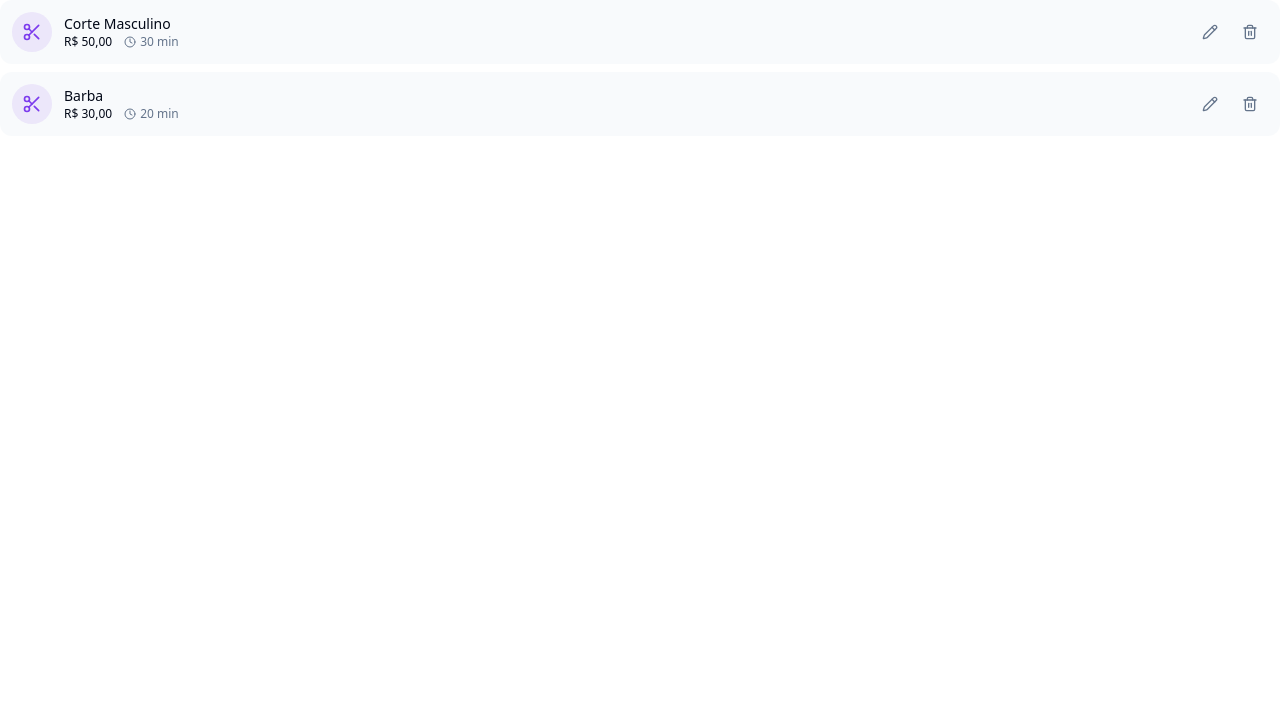
Test: ServiceList › with services › should close delete confirmation without confirming
Step 1. Click the button named "delete" in the row of "Corte Masculino" → (1250, 32), box [1232,14,1268,50]
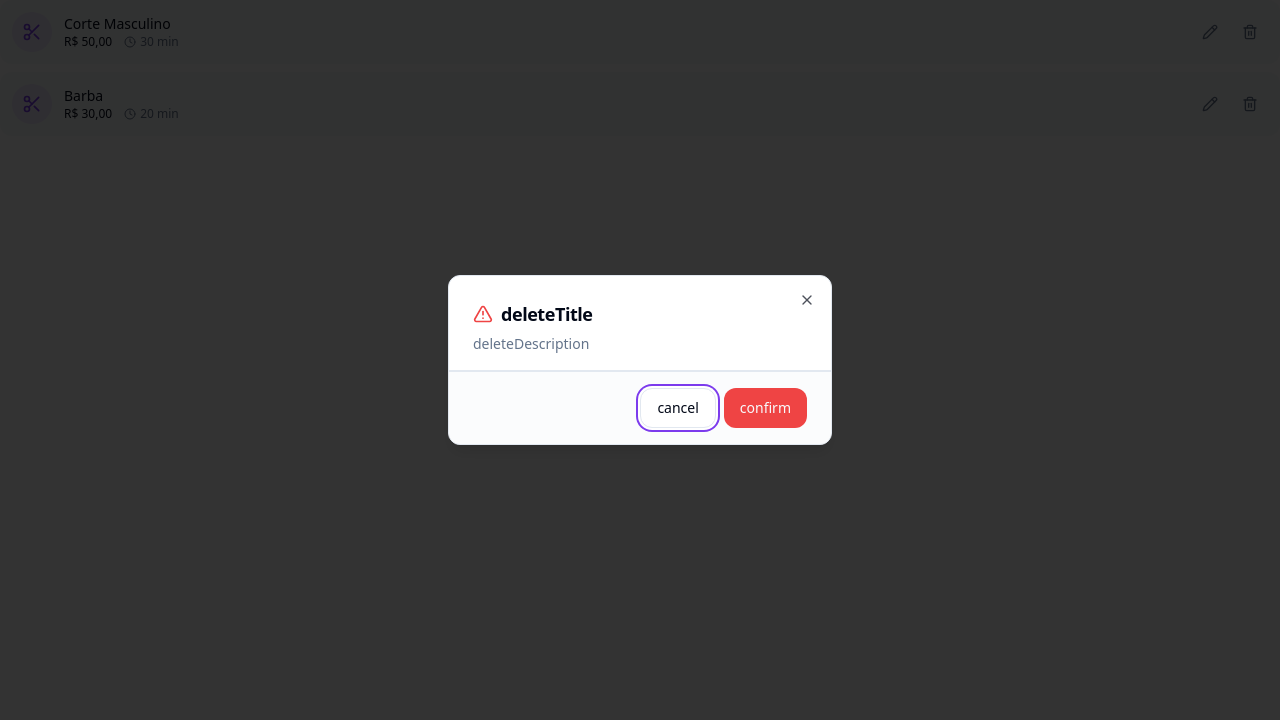
Check: the heading "deleteTitle" is shown, box [473,302,592,326]
Step 2. Click the button "cancel" → (678, 408), box [640,388,716,428]
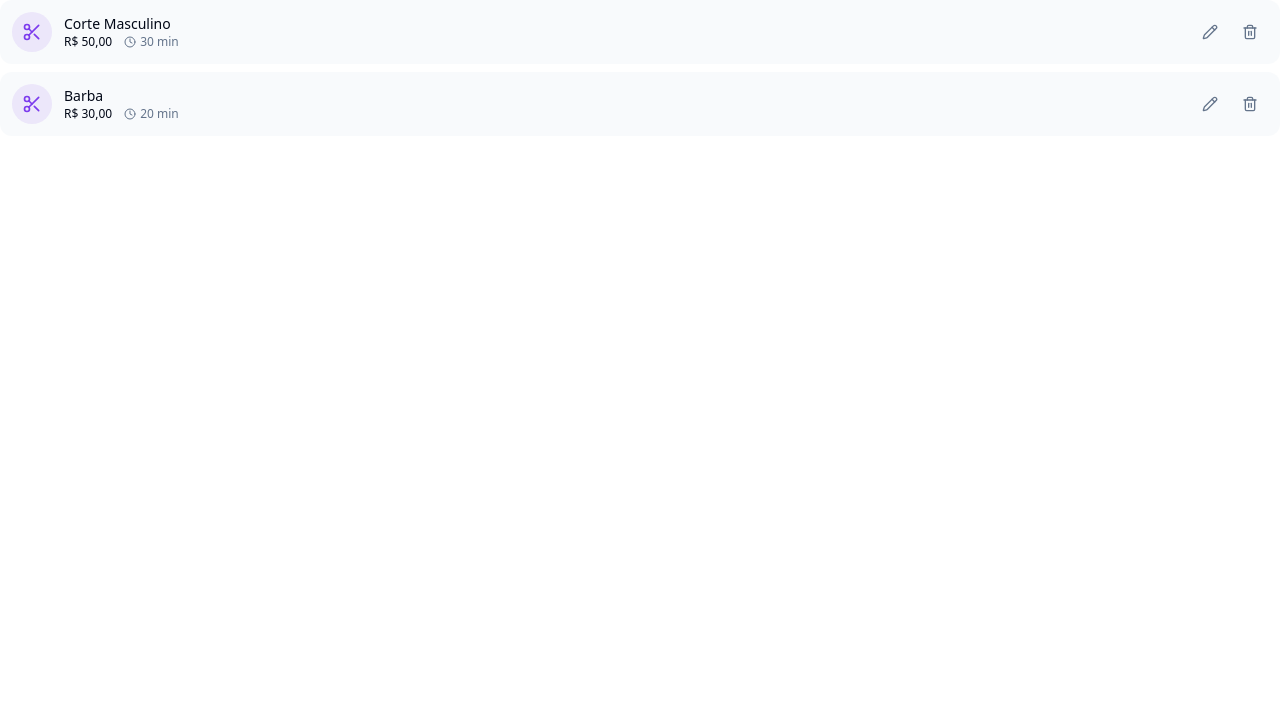
Check: the heading "deleteTitle" is gone
